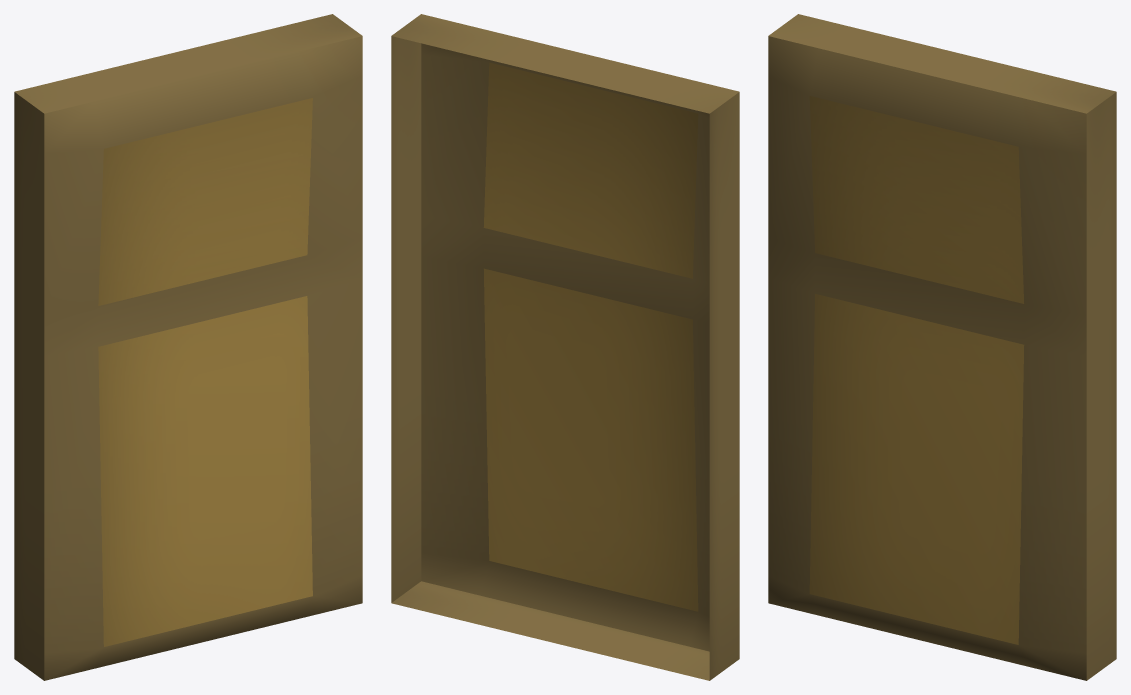
Rendered from Deur.fbx.
The picture shows the model from 3 angles, left to right: view 1: azimuth 30°, elevation 25°; view 2: azimuth 150°, elevation 25°; view 3: azimuth 330°, elevation 25°; orthographic projection.
Visible parts, largest first — view 1: pCube1; view 2: pCube1; view 3: pCube1.
Part boxes in pixels (x1=…): pCube1: x1=14, y1=14, x2=362, y2=680; pCube1: x1=391, y1=14, x2=739, y2=680; pCube1: x1=768, y1=14, x2=1116, y2=680.
Bounding box in the file's own units: 4.37 × 7.43 × 0.9296.
